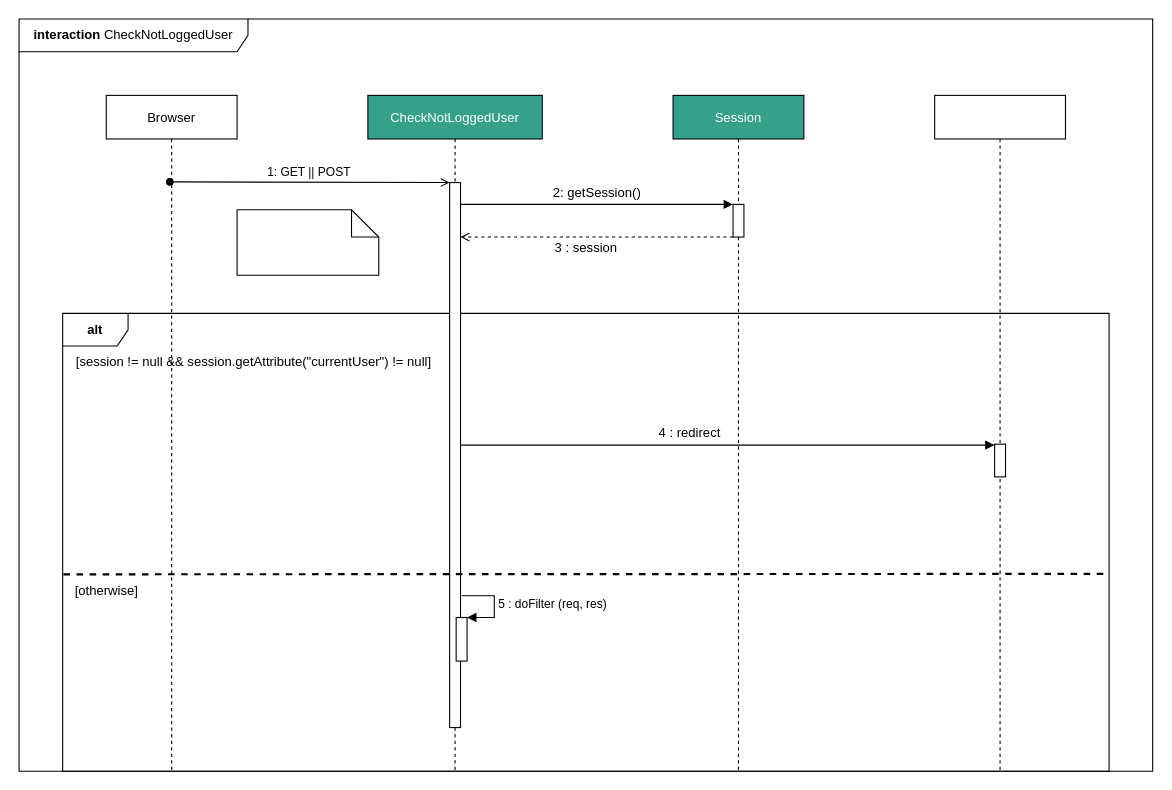
Some shapes in this 1172 by 790 pixel diagram are drawn without their labels. Each missing label, with the centre of its shape:
"home.html" goes at [999,432].
"to unprotected urls" goes at [307,242].
